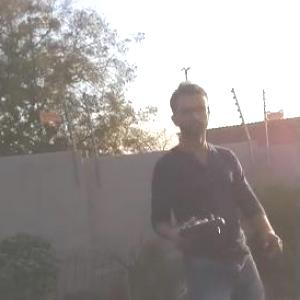follow: (144, 72, 288, 299)
